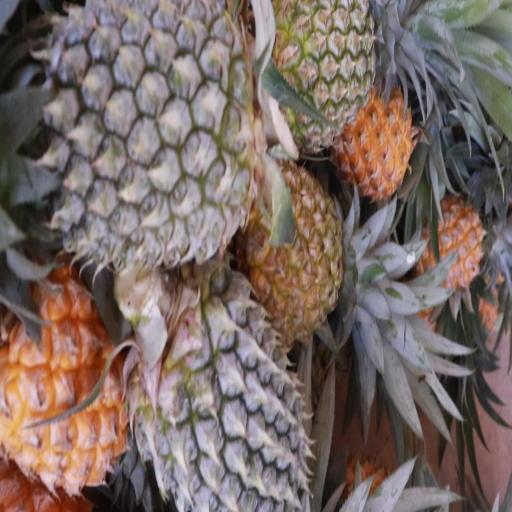------------------------------: (269, 0, 382, 162), (252, 167, 342, 324)
Pineapple - v8 v1: (0, 280, 122, 484), (342, 87, 412, 199), (413, 199, 484, 295)
